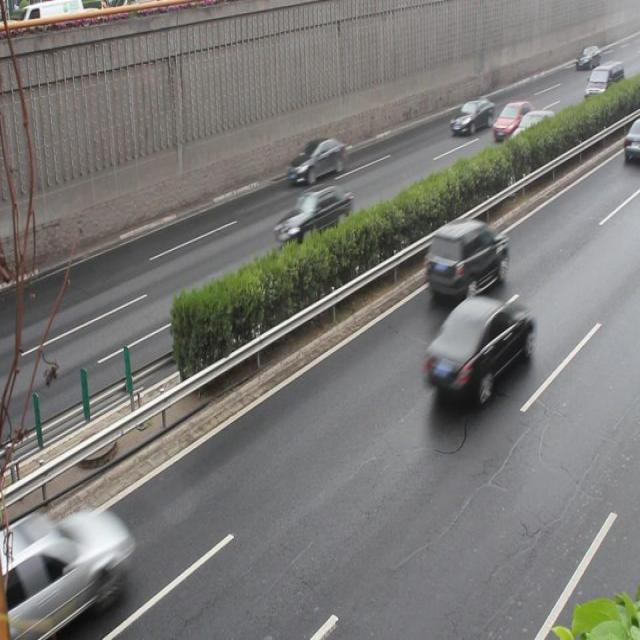car: (1, 506, 128, 621), (425, 298, 530, 406), (425, 220, 507, 300), (275, 186, 353, 247), (288, 136, 346, 188), (508, 110, 559, 160), (492, 100, 532, 142), (450, 99, 491, 138), (622, 118, 640, 170)
truck: (583, 60, 622, 104)
